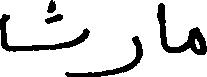X: (0, 0, 88, 76), (101, 31, 141, 76), (191, 22, 206, 59), (158, 0, 165, 55)
